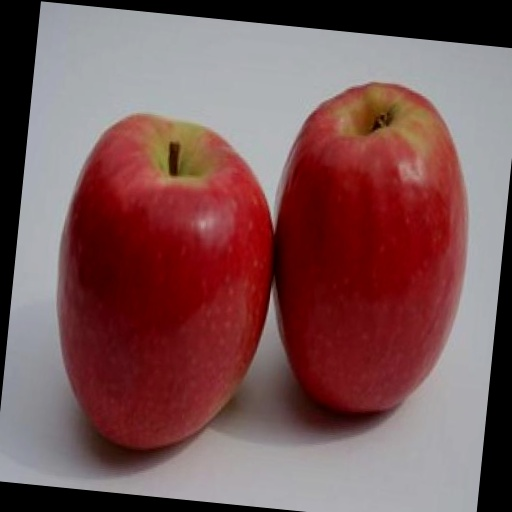fruit: (57, 115, 272, 448), (275, 83, 467, 412)
